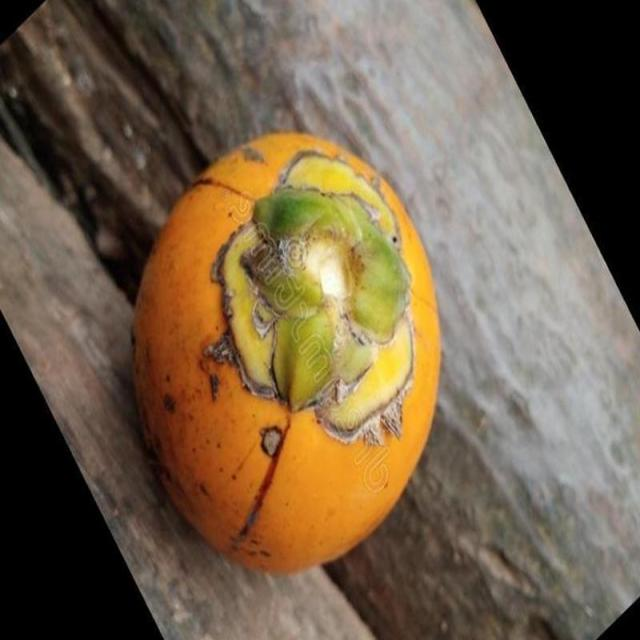good: (130, 132, 442, 578)
